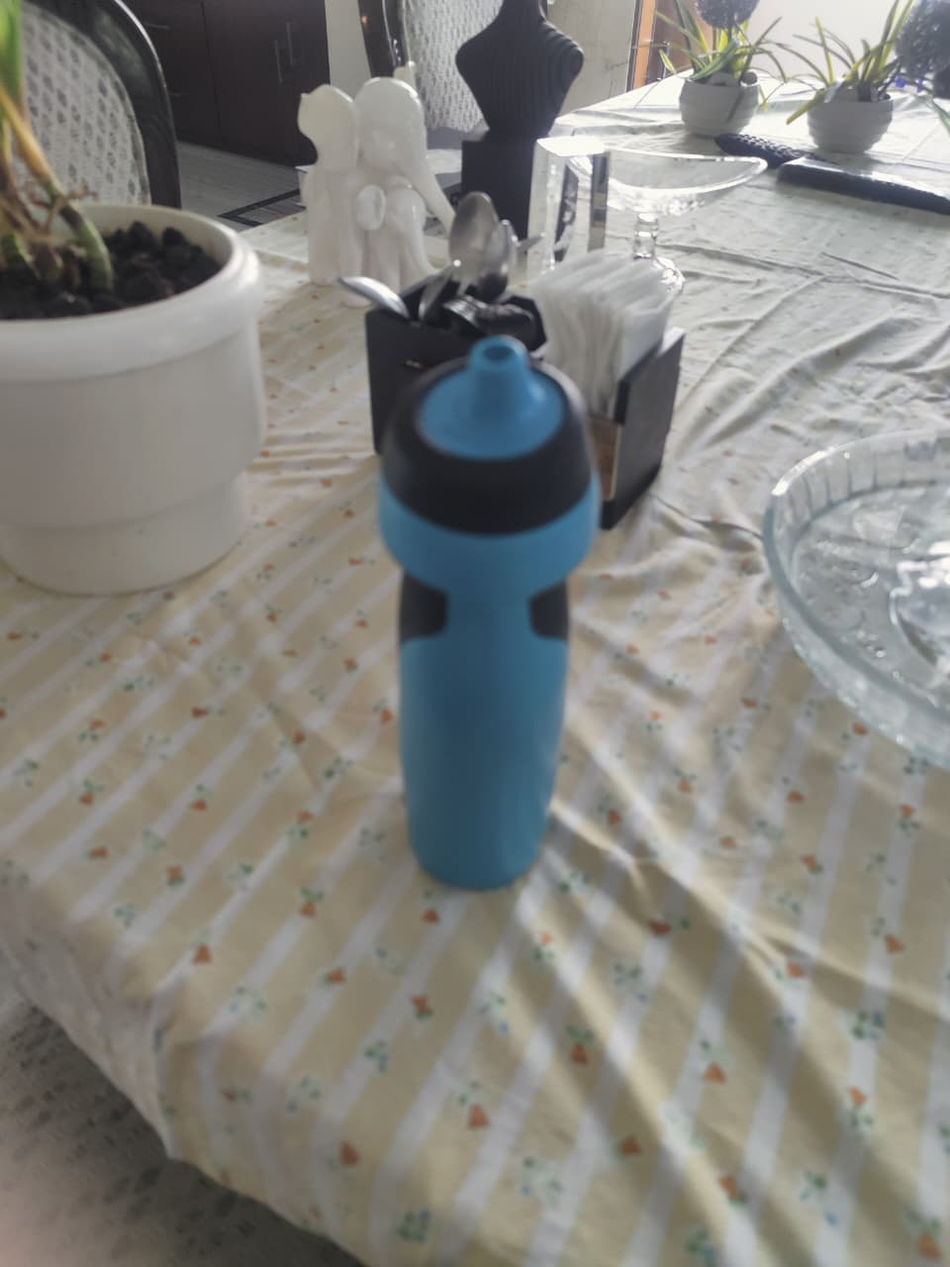bottle: (379, 334, 601, 894)
